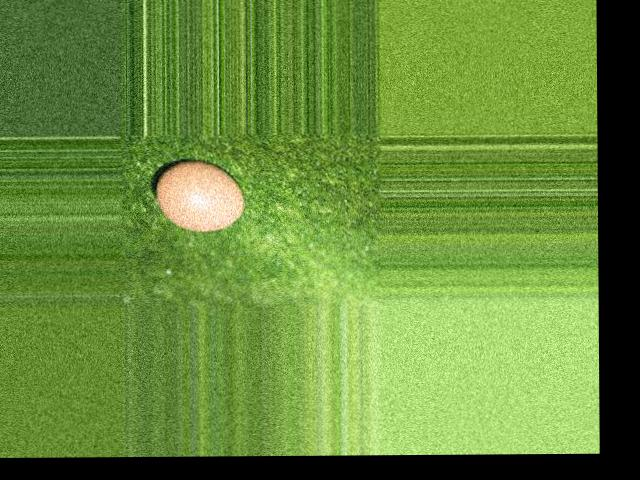egg: (156, 159, 245, 230)
